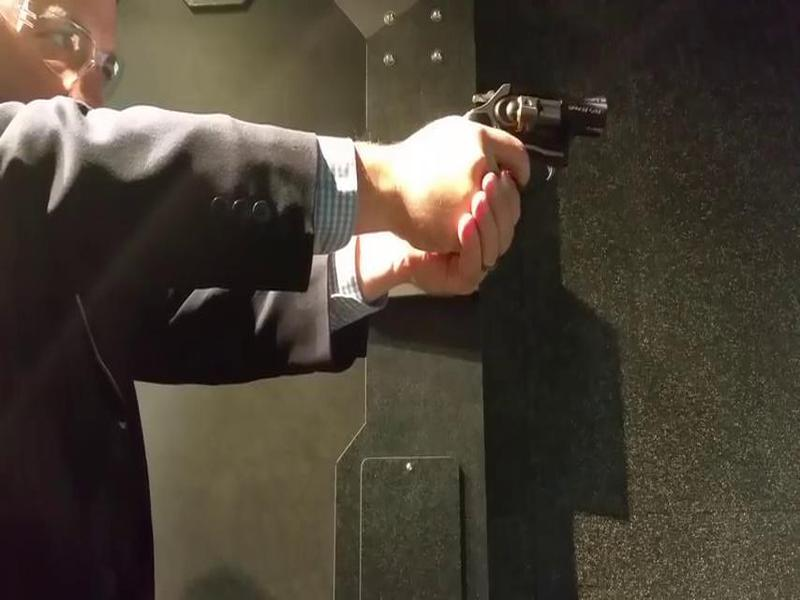Revolver: (428, 72, 632, 216)
